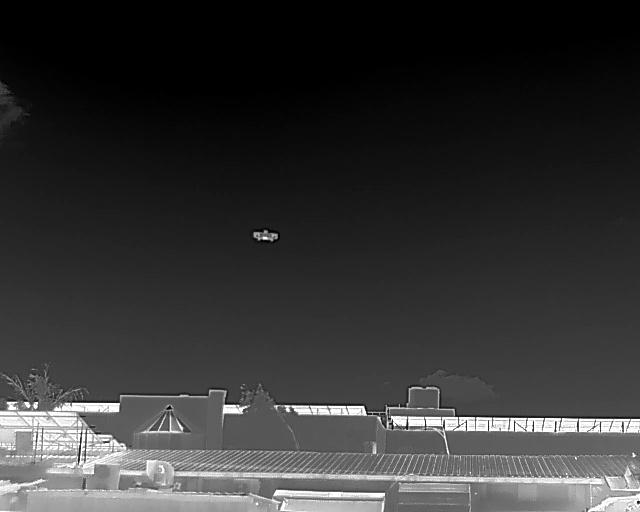fpv-drone: (252, 229, 279, 242)
